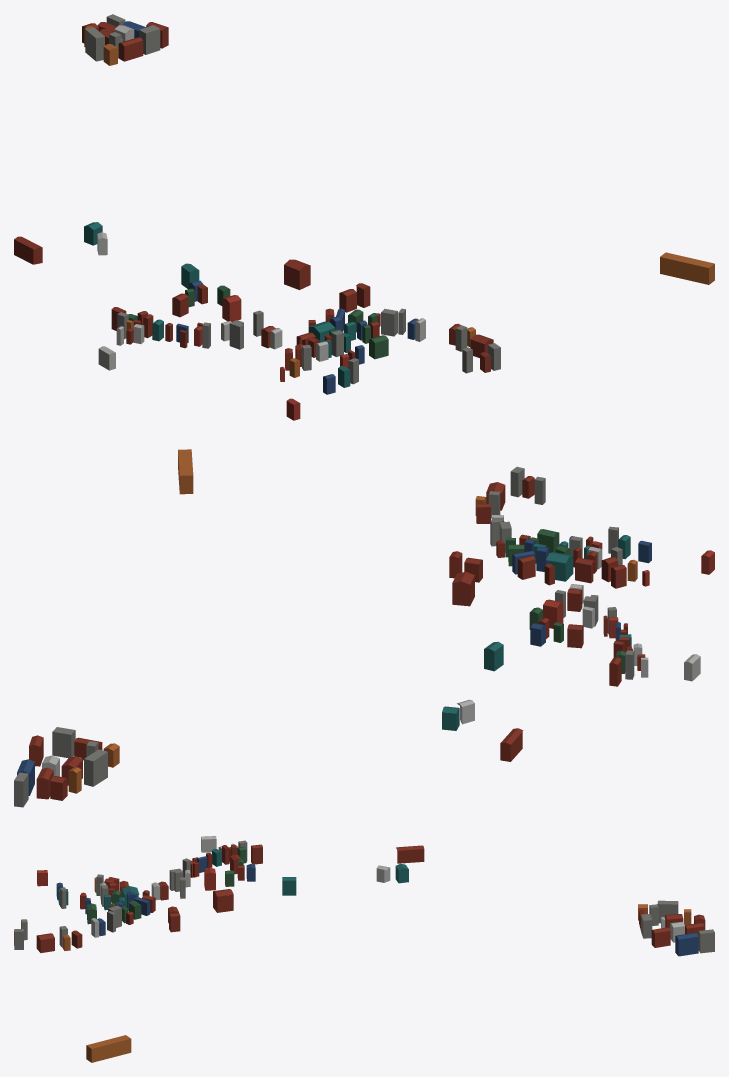
The model's file is near-15-27351-14882.b9e6c302.glb.
3 views of the same model, one above another, from view 1: azimuth 30°, elevation 25°; view 2: azimuth 150°, elevation 25°; view 3: azimuth 270°, elevation 25° (orthographic). The views are drawn at different scales.
Bounding box in the file's own units: 578 × 70.86 × 781.
